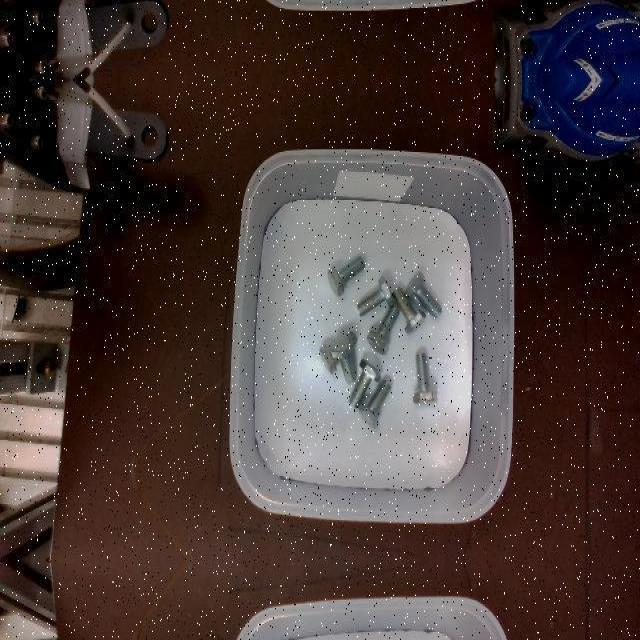screw: (357, 377, 392, 427), (404, 271, 442, 317), (348, 357, 380, 409), (367, 303, 400, 353), (326, 255, 364, 297), (393, 286, 426, 332), (357, 275, 393, 317), (332, 333, 357, 383), (413, 352, 438, 402)
